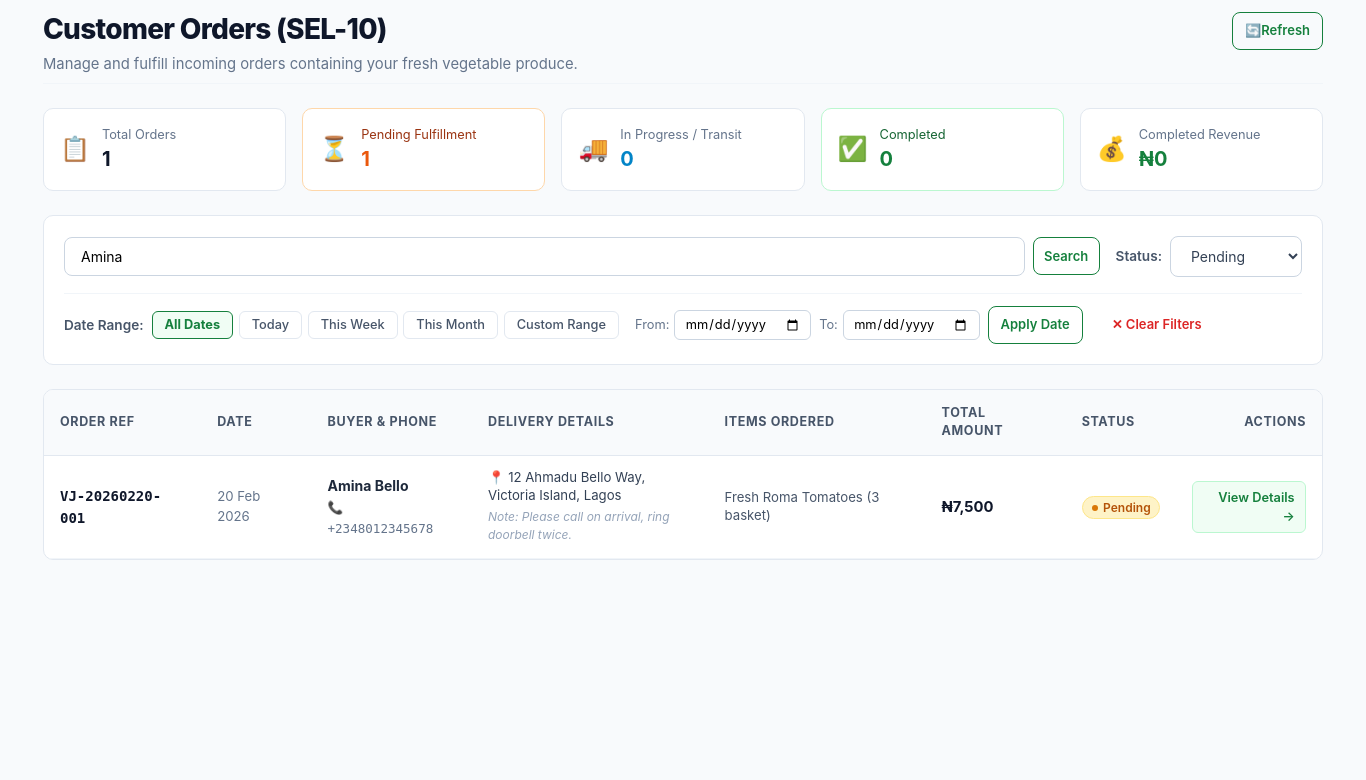
Scenario: FE-090 / SEL-10: Seller Orders List › 6. Search and Reset Filters (SEL-10) › resets all filters when clicking Clear Filters
The image size is (1366, 780).
Step 1. Click the button with test id "seller-orders-reset-filters-btn" → x=1157, y=325, box [1099, 306, 1215, 344]
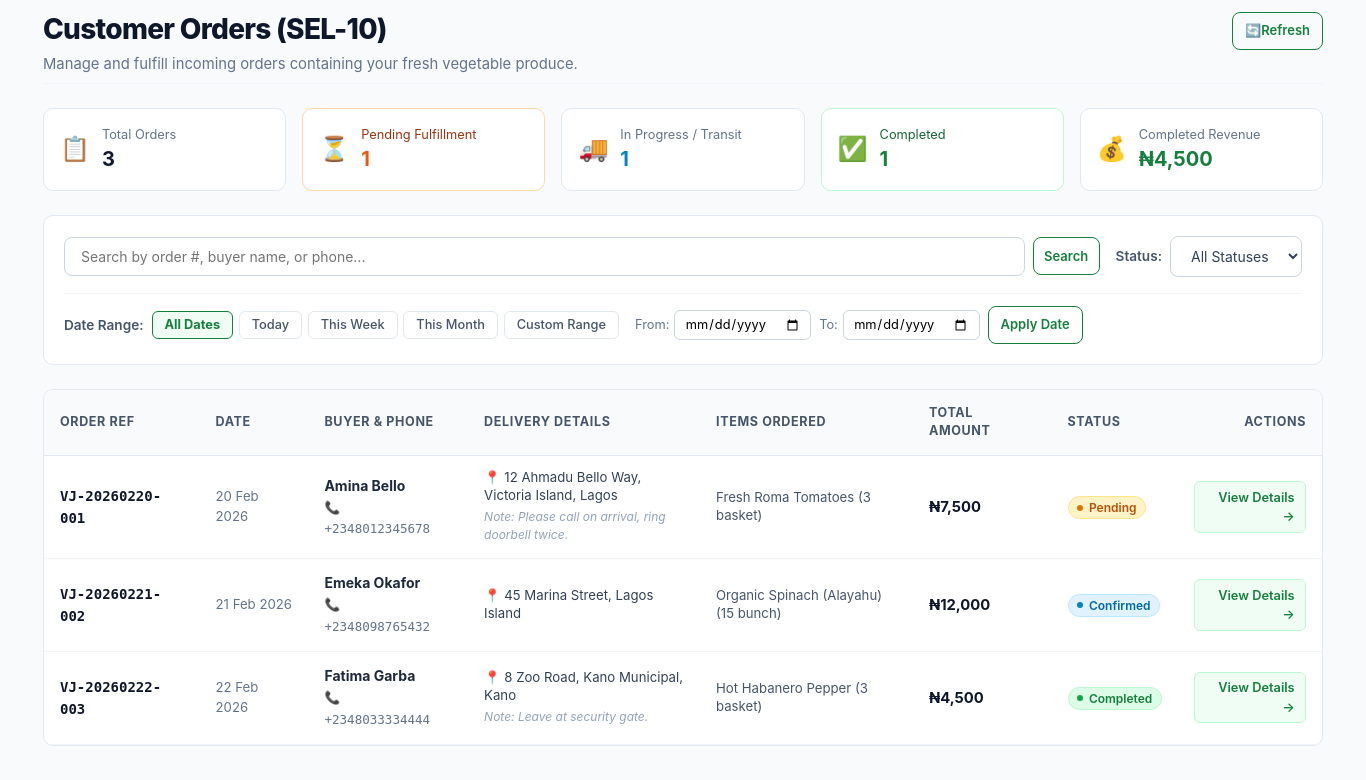
Expected: the search field with test id "seller-orders-search-input" is empty, [64, 237, 1025, 276]
Expected: the dropdown with test id "seller-orders-status-filter" shows "All Statuses", [1170, 236, 1302, 277]
